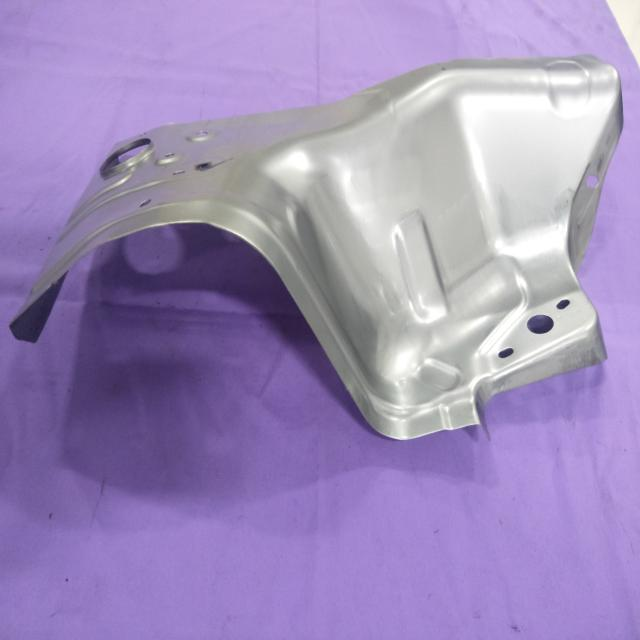Healthy: (9, 51, 625, 444)
